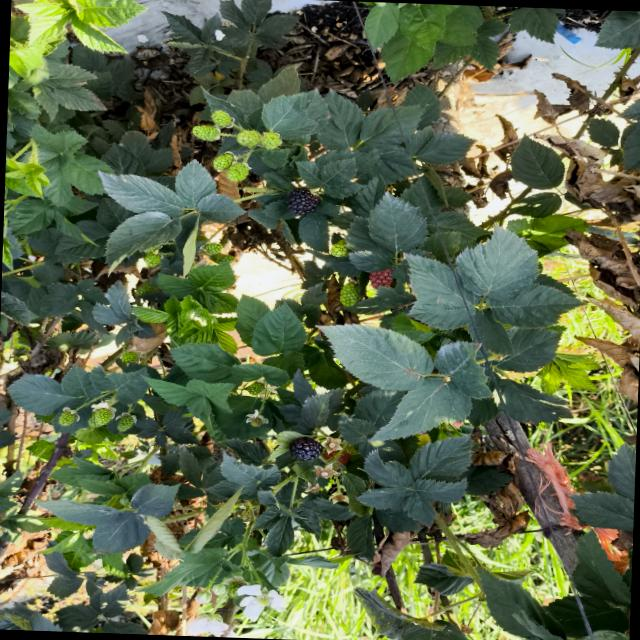boton: (195, 590, 211, 604), (210, 583, 225, 596)
flor: (237, 584, 284, 621), (187, 614, 229, 637)
maduro: (287, 187, 319, 216), (288, 437, 322, 461)
naranja: (369, 269, 392, 288)
verde: (88, 402, 114, 427), (339, 282, 358, 306), (225, 163, 249, 181), (192, 125, 219, 141), (236, 130, 260, 147), (57, 407, 78, 426), (211, 109, 233, 127), (260, 131, 281, 149), (212, 153, 234, 170), (117, 412, 135, 432), (330, 238, 348, 257), (245, 382, 265, 395), (211, 253, 234, 264), (144, 253, 160, 267), (120, 350, 137, 363), (204, 242, 222, 254)
